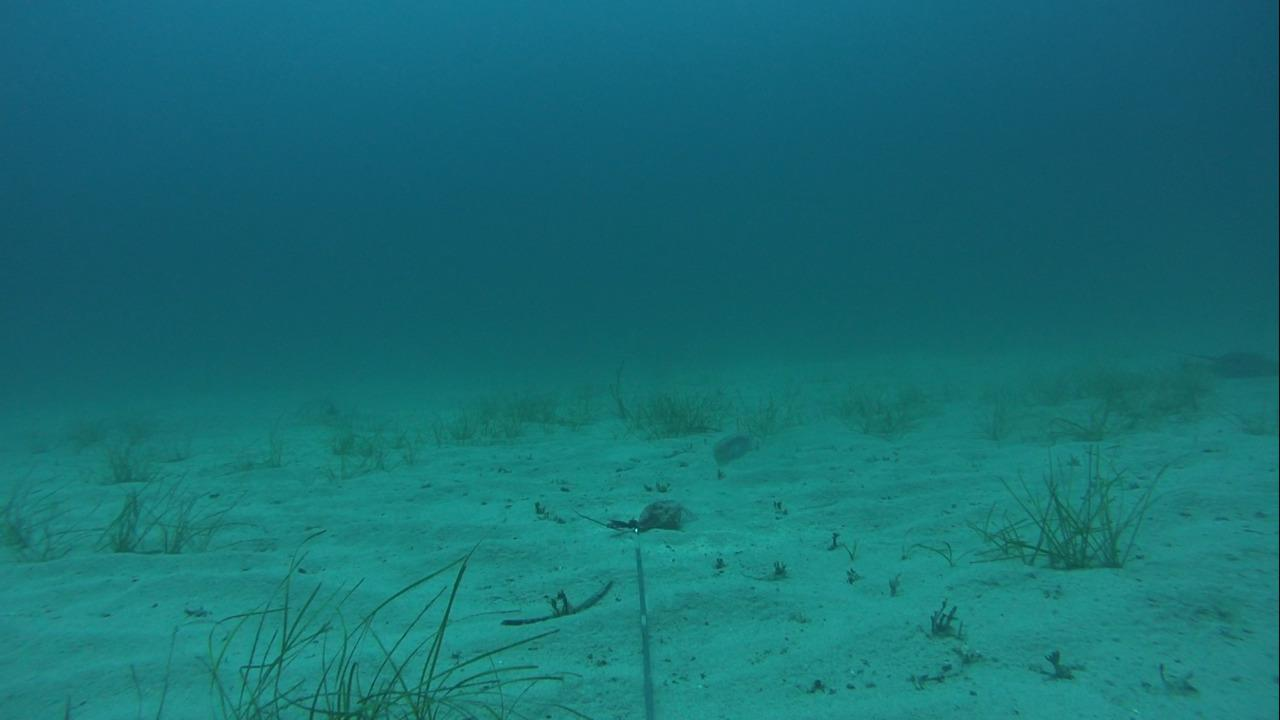myliobatis: (1174, 341, 1279, 383)
raor: (706, 426, 760, 470)
